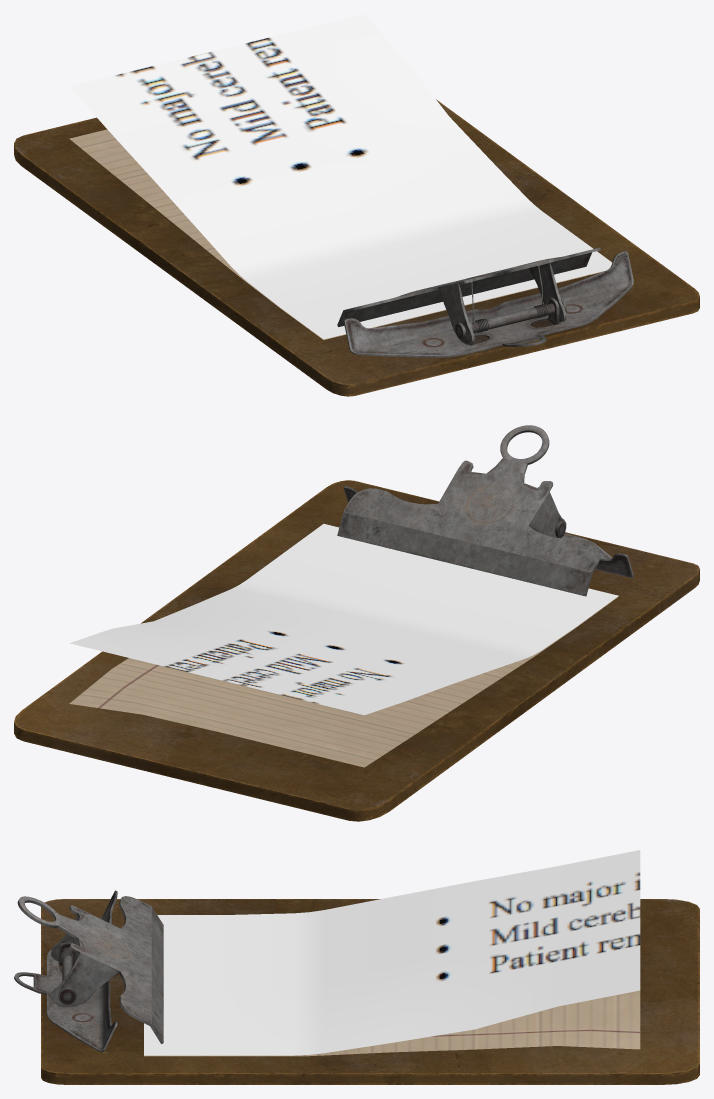
Rendered from MedicalReport.fbx.
3 views of the same model, one above another, from view 1: azimuth 30°, elevation 25°; view 2: azimuth 150°, elevation 25°; view 3: azimuth 270°, elevation 25° (orthographic). The views are drawn at different scales.
Parts seen in each view (by area): view 1: Vintage Wooden Clipboard.001; view 2: Vintage Wooden Clipboard.001; view 3: Vintage Wooden Clipboard.001.
Part boxes in pixels (left/top/right/bottom): Vintage Wooden Clipboard.001: left=14, top=14, right=699, bottom=396; Vintage Wooden Clipboard.001: left=14, top=425, right=699, bottom=821; Vintage Wooden Clipboard.001: left=14, top=850, right=699, bottom=1084.
Size of the model in its own units: 22.77 by 5.88 by 37.73.
2 materials, 2 textured.
